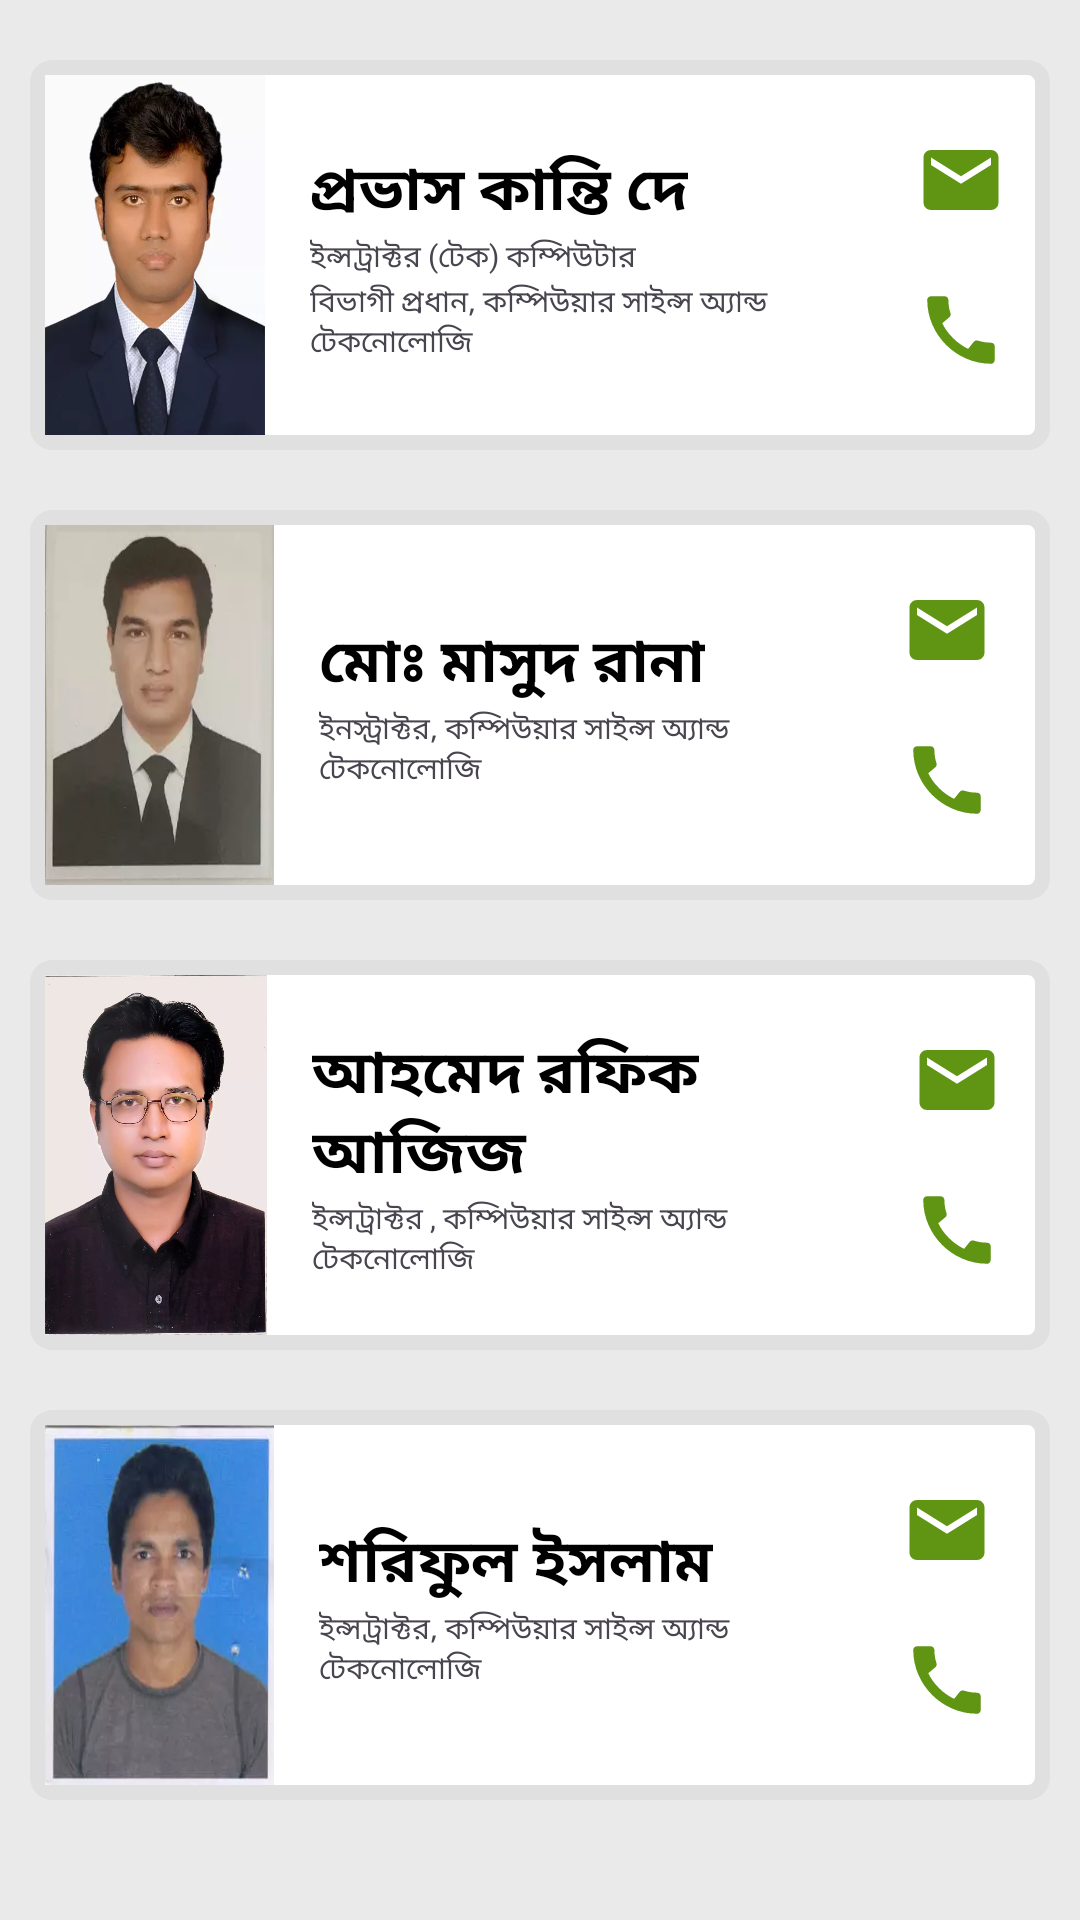

Icons on this 1080 x 1920 Android screen, each with the point to tap as [x,y]:
call: [961,330], [947,780], [957,1230], [947,1680]
email: [961,180], [947,630], [957,1080], [947,1530]
